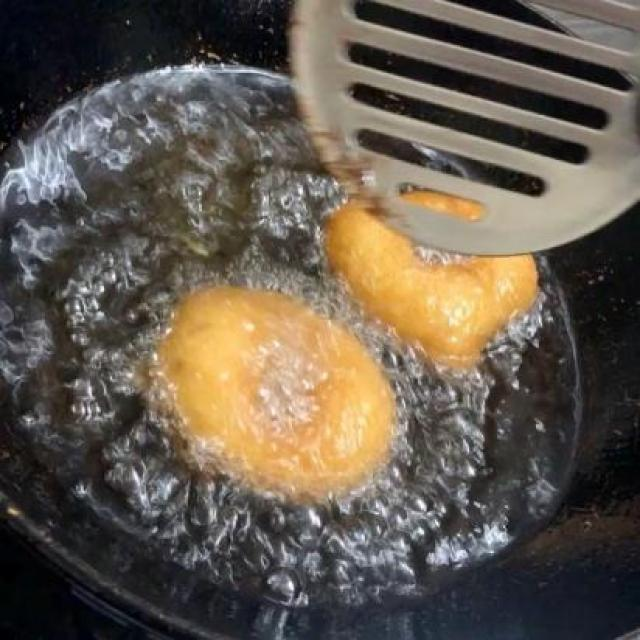vada: (118, 258, 420, 502), (298, 165, 572, 352)
